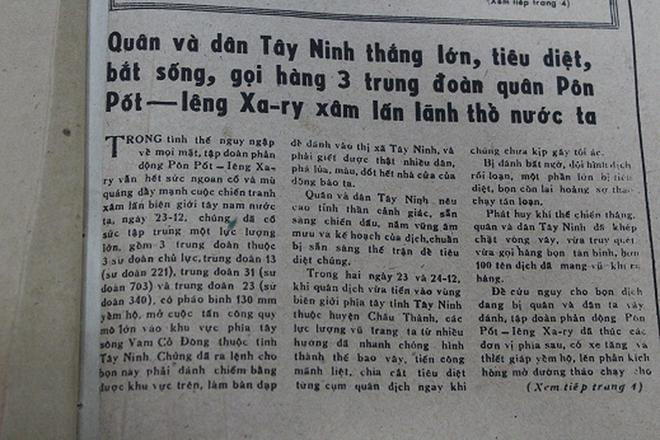paper: (82, 0, 660, 438)
